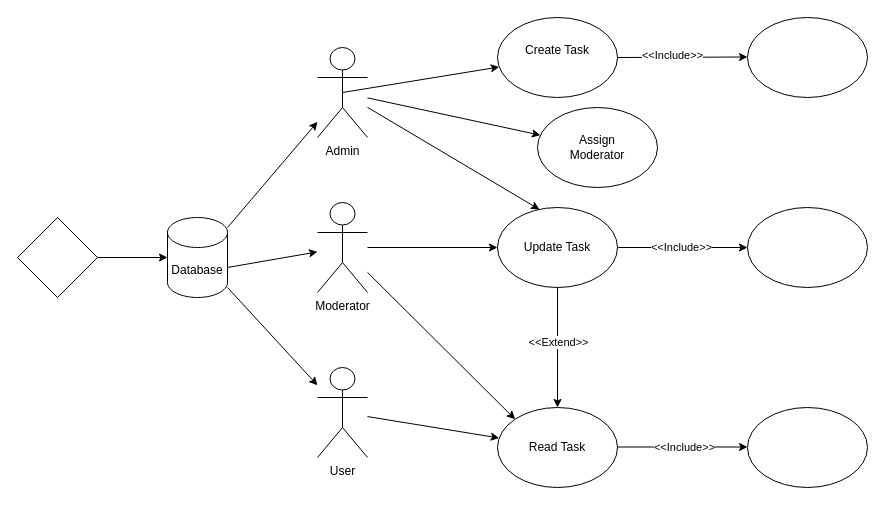
This 885x505 diagram has some shape labels left out. The centre of each missing label's shape, as x and y in pixels:
Delete Task: pixel 807 57
Display Tasks: pixel 807 447
Login: pixel 57 257
Update Status: pixel 807 247
